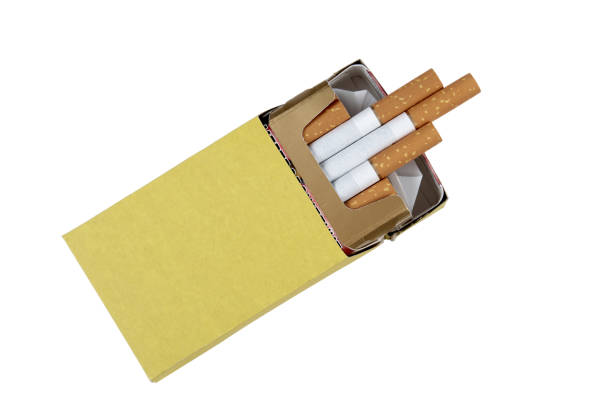cigarette: (59, 57, 449, 385), (318, 71, 481, 183), (306, 67, 444, 164), (331, 121, 442, 202), (300, 99, 350, 145), (343, 177, 396, 211)
